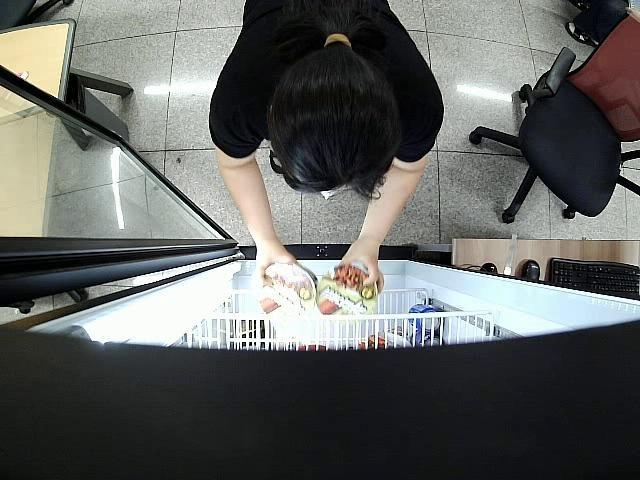03_chapagetti_L: (258, 262, 318, 322), (315, 263, 380, 316)
